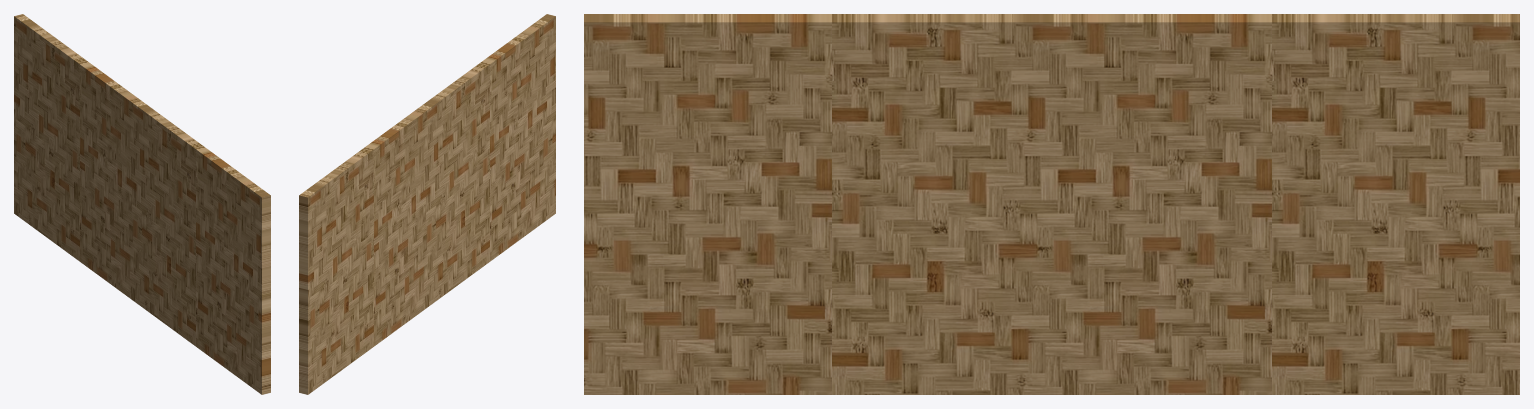
File: R4_Kanan.fbx
3 renders of one model, left to right at view 1: azimuth 30°, elevation 25°; view 2: azimuth 150°, elevation 25°; view 3: azimuth 270°, elevation 25°, orthographic. The views are drawn at different scales.
Visible parts, largest first — view 1: T_Kanan_R4; view 2: T_Kanan_R4; view 3: T_Kanan_R4.
Boxes of the visible parts, x1,y1,x2,y2 form: T_Kanan_R4: [14, 14, 270, 394]; T_Kanan_R4: [299, 14, 555, 394]; T_Kanan_R4: [584, 14, 1519, 394].
Bounding box in the file's own units: 0.3 × 6.32 × 14.37.
1 material, 1 textured.
